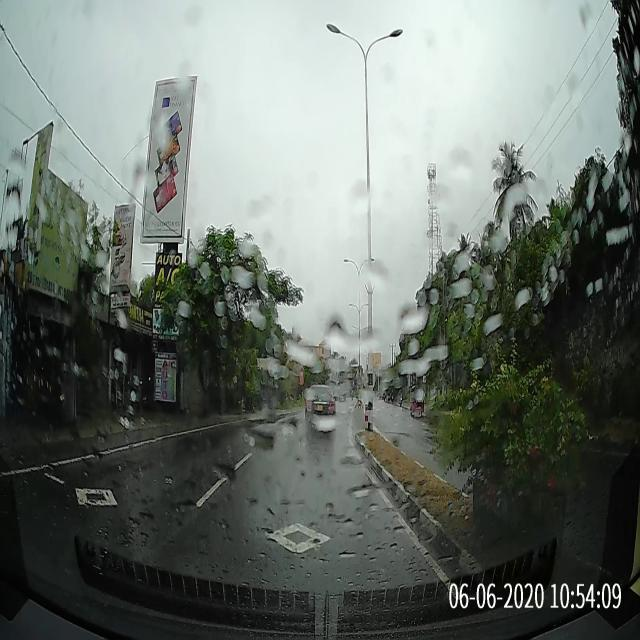diamond: (178, 514, 430, 560)
